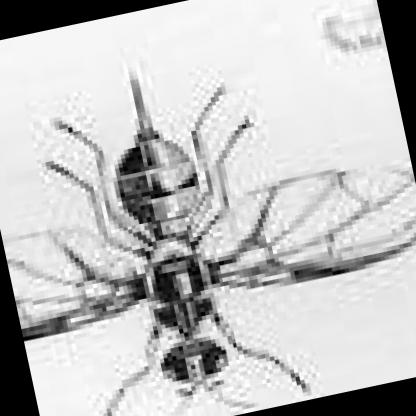fruit fly: (5, 72, 416, 385)
